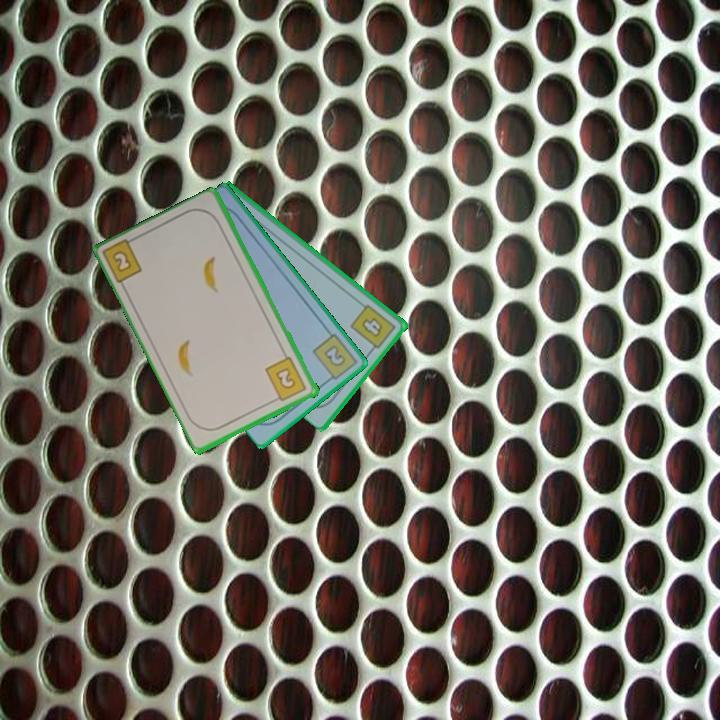2b: (309, 330, 360, 386), (262, 354, 310, 405), (101, 233, 145, 287)
4b: (346, 300, 399, 356)
